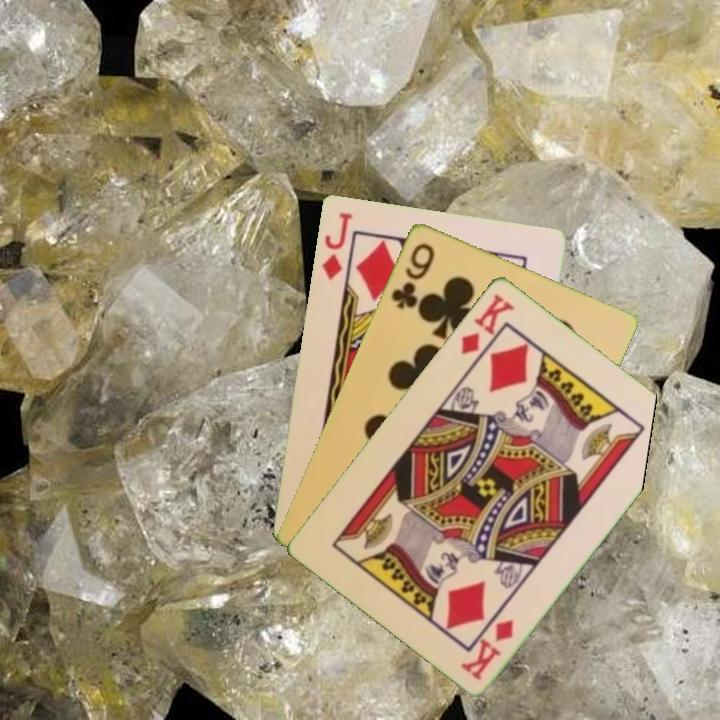9c: (387, 239, 438, 312)
Jd: (317, 208, 355, 282)
Kd: (457, 289, 517, 357), (457, 615, 517, 682)
